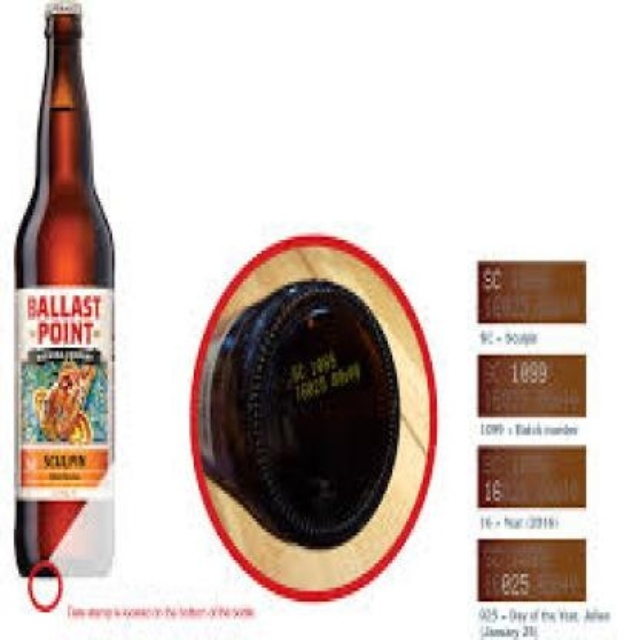trash: (192, 237, 434, 598), (15, 3, 112, 574)
